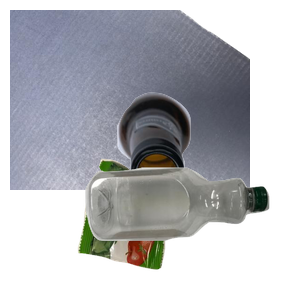cardboard: (10, 10, 250, 190)
glass: (115, 90, 300, 270)
plastic: (83, 165, 300, 300)
trash: (75, 156, 244, 300)
